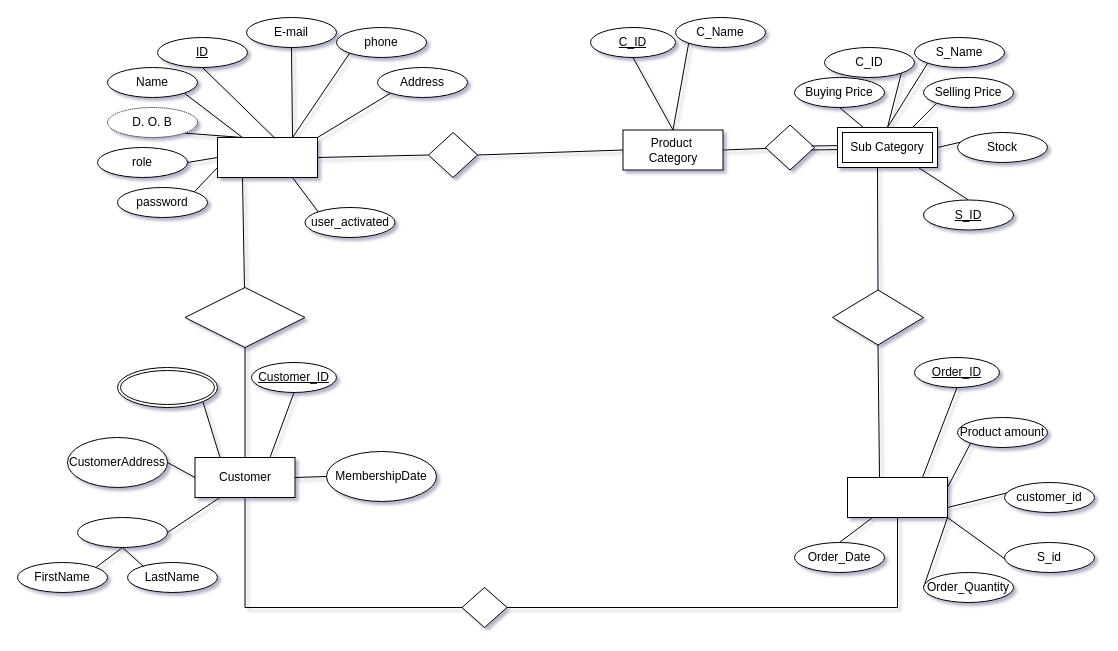
Some shapes in this 1118 by 651 pixel diagram are drawn without their labels. Here are the shapes that lost their labels. From the top down, the centre of each, then its label:
the point at 267,157: Inventory User
the point at 453,155: access
the point at 789,147: included
the point at 244,317: add
the point at 878,317: connect
the point at 167,387: CustomerPhone
the point at 897,497: Orders
the point at 122,532: CustomerName
the point at 484,607: create
